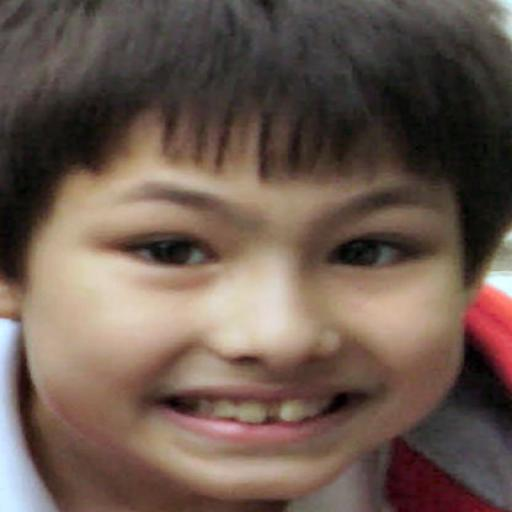Autism: (6, 11, 498, 497)
